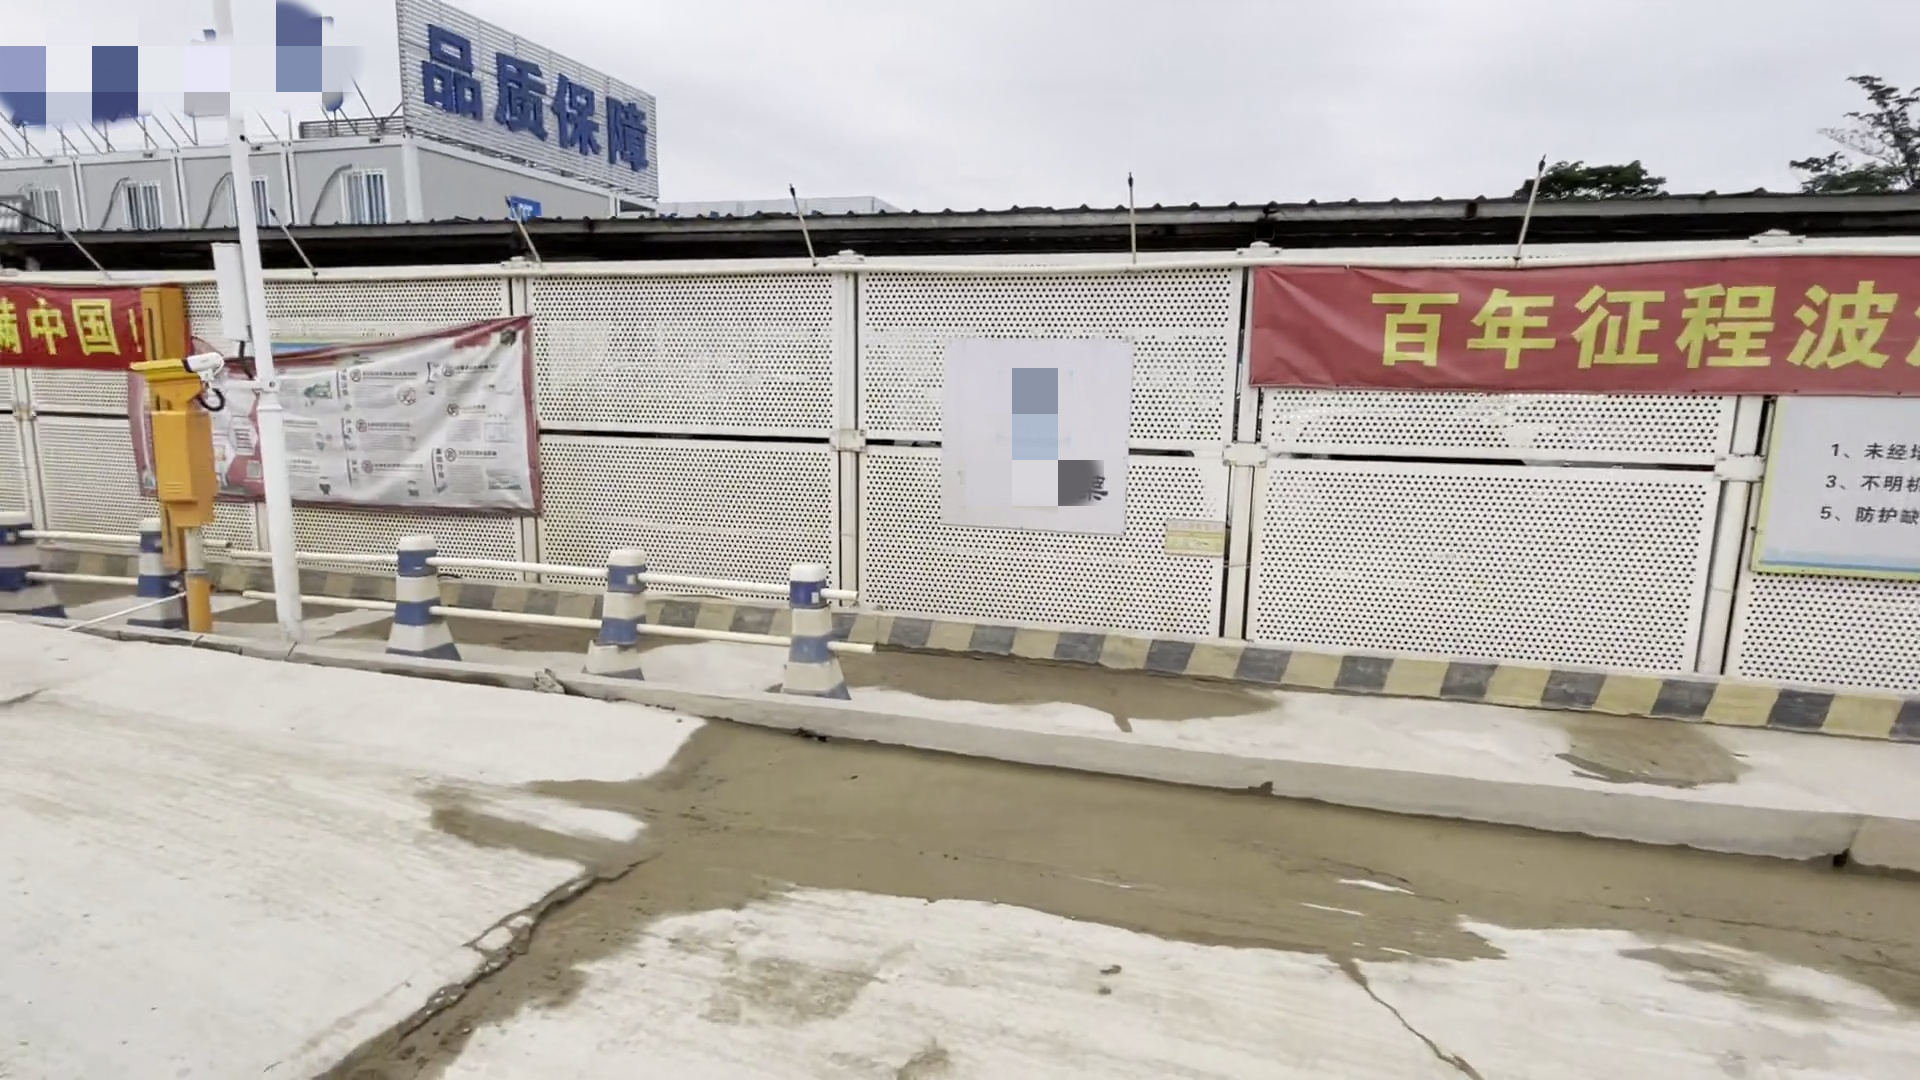slogan: (1266, 260, 1904, 393), (410, 15, 676, 179), (1782, 396, 1920, 560), (1, 284, 173, 364)
